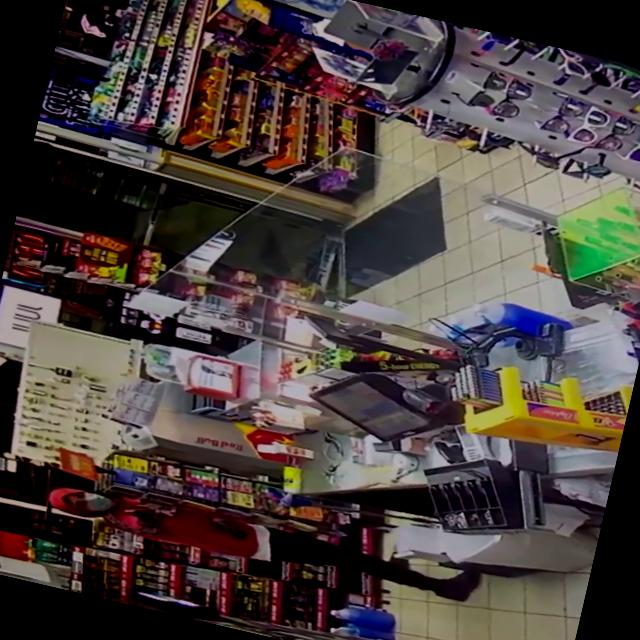handgun: (118, 497, 167, 526)
